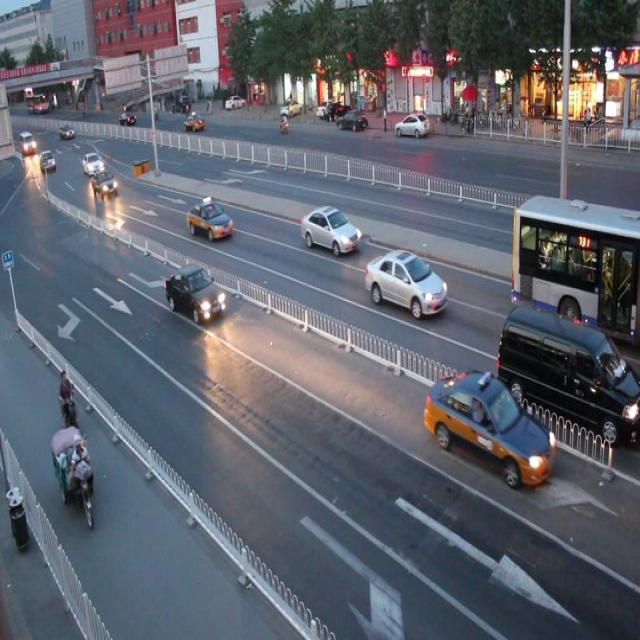car: (424, 369, 555, 487), (364, 248, 448, 316), (163, 263, 226, 322), (299, 203, 361, 256), (187, 199, 234, 241)
truck: (496, 301, 640, 447)
van: (510, 192, 640, 350)
